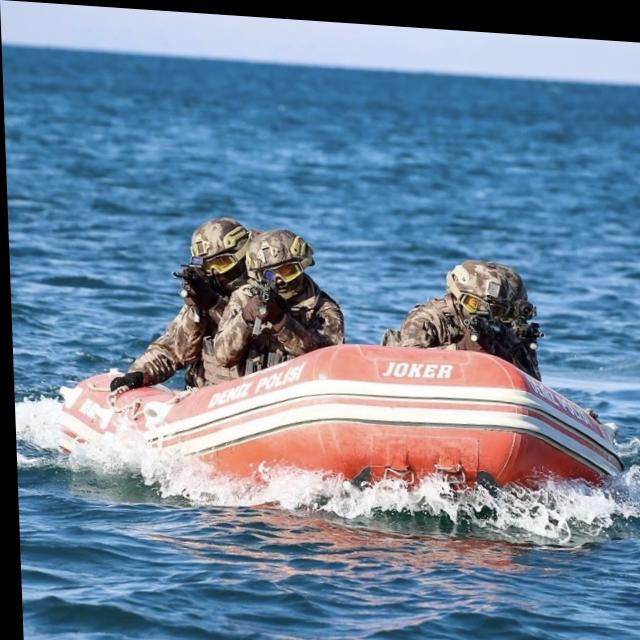poh_personel: (104, 207, 249, 394), (375, 249, 544, 379), (208, 222, 344, 380)
